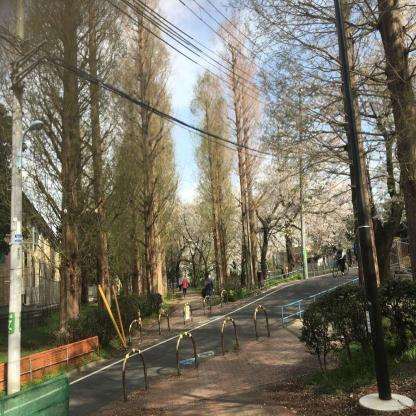Someiyoshino: (229, 106, 368, 272)
